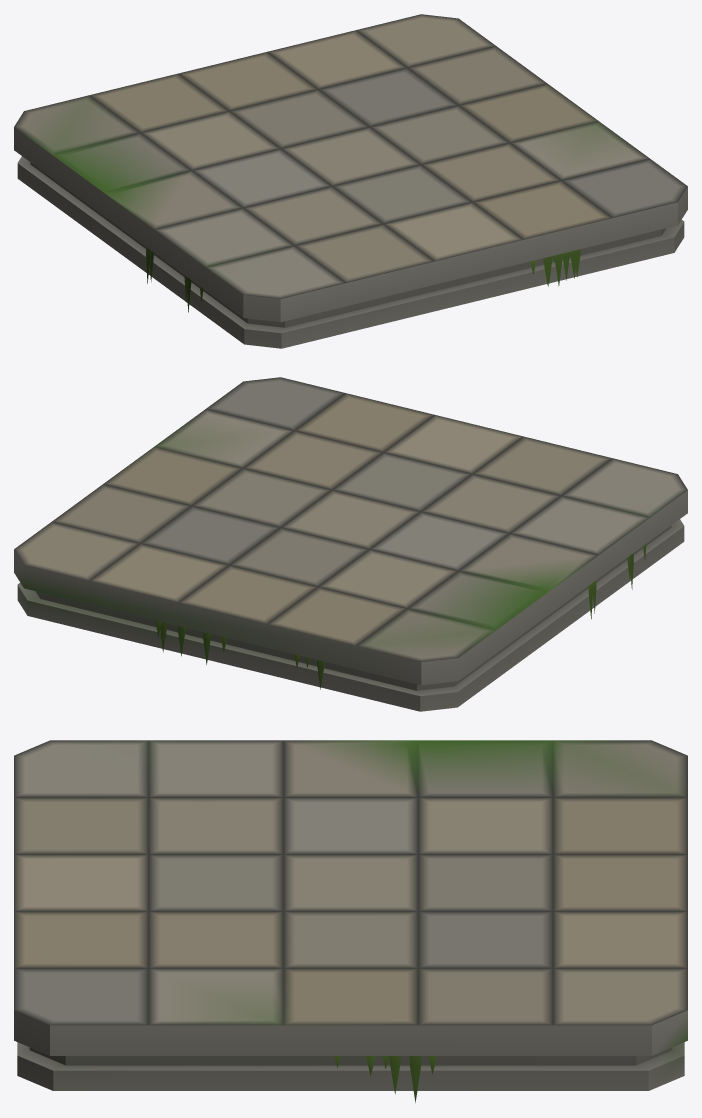
The model's file is platform_stone.glb.
The picture shows the model from 3 angles, top to bottom: view 1: azimuth 30°, elevation 25°; view 2: azimuth 150°, elevation 25°; view 3: azimuth 270°, elevation 25°; orthographic projection. The views are drawn at different scales.
Parts seen in each view (by area): view 1: platform_stone; view 2: platform_stone; view 3: platform_stone.
Boxes of the visible parts, x1,y1,x2,y2 form: platform_stone: [14, 14, 687, 348]; platform_stone: [14, 377, 687, 711]; platform_stone: [14, 740, 687, 1102].
Size of the model in its own units: 3 by 0.6 by 3.
